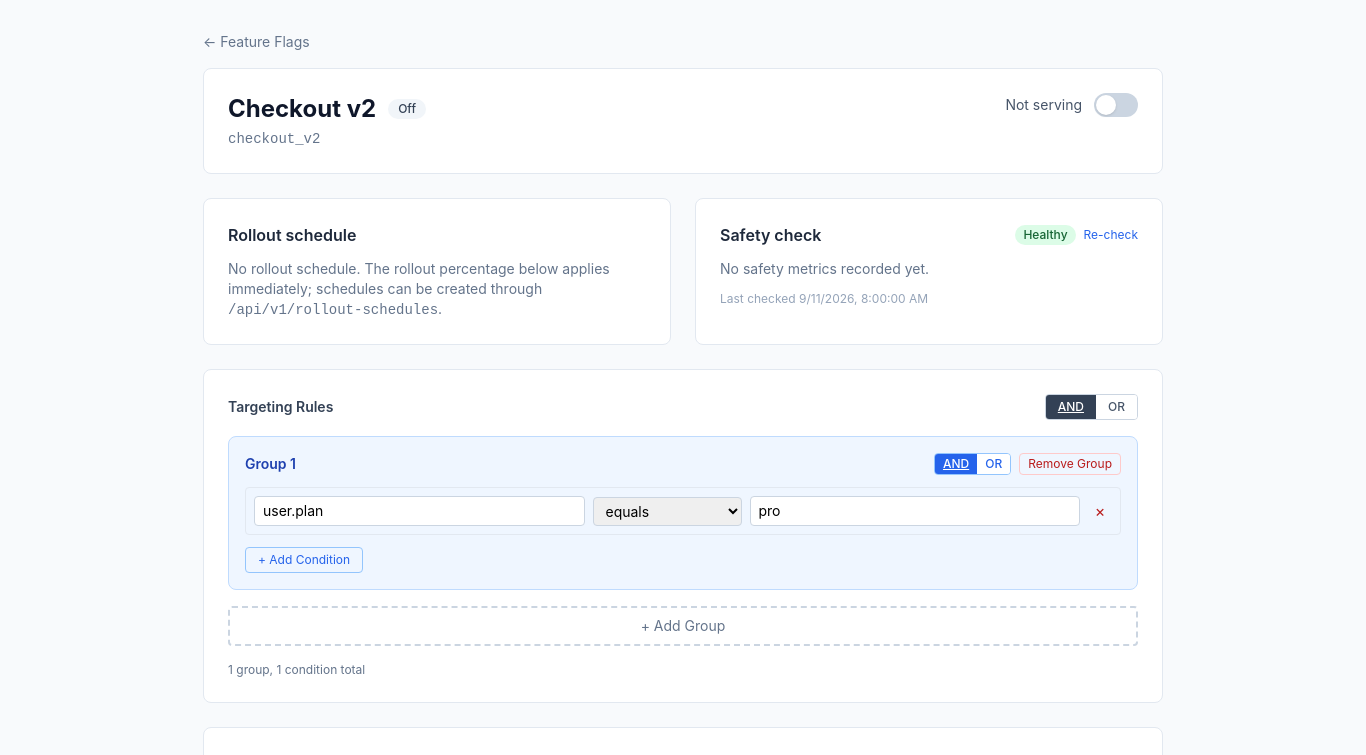
Test: a save the rules stop › shows a 422 on targeting_rules inside the section, focused, as a list
This screenshot has width=1366, height=755.
Replace the text in the field named "Group 1, condition 1 value" with "team" at x=915, y=511, box x1=750 y1=496 x2=1080 y2=526
(page scrolled)
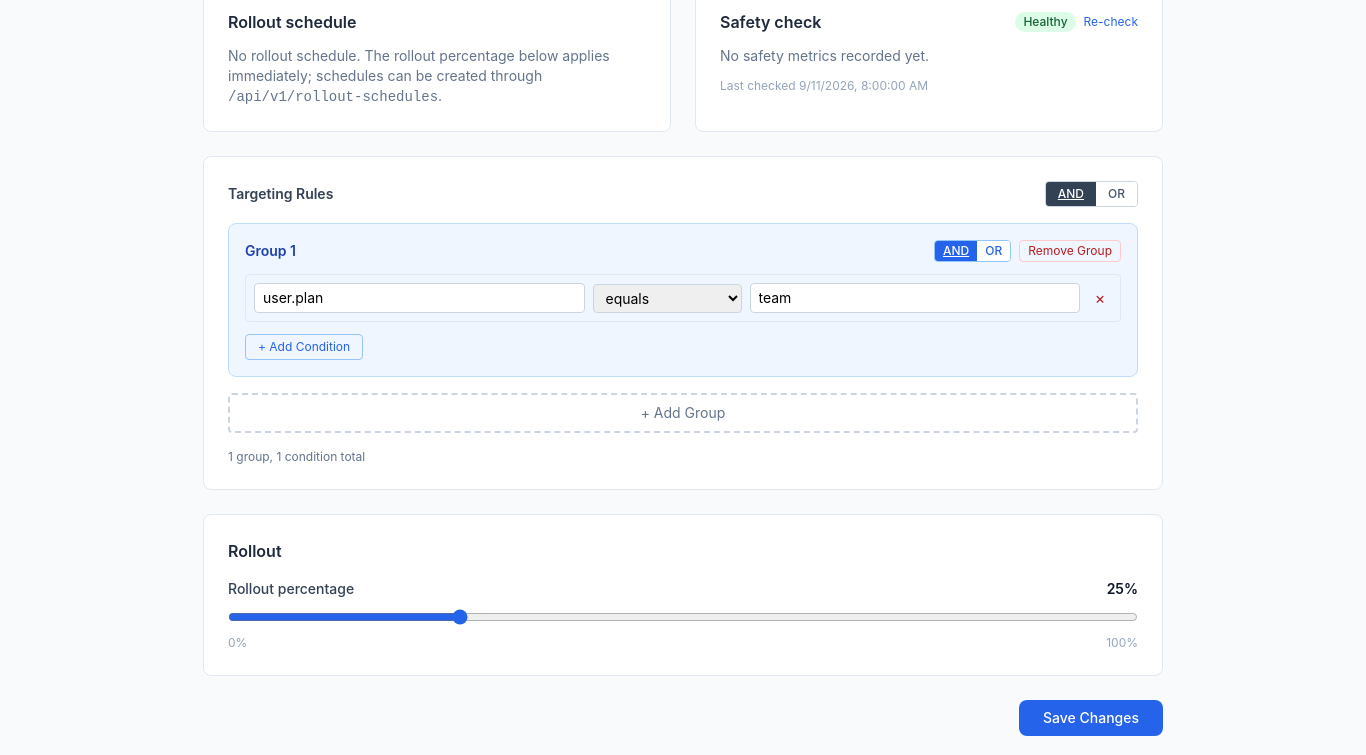
Click the button with test id "save-flag" at x=1091, y=718, box x1=1019 y1=700 x2=1163 y2=736
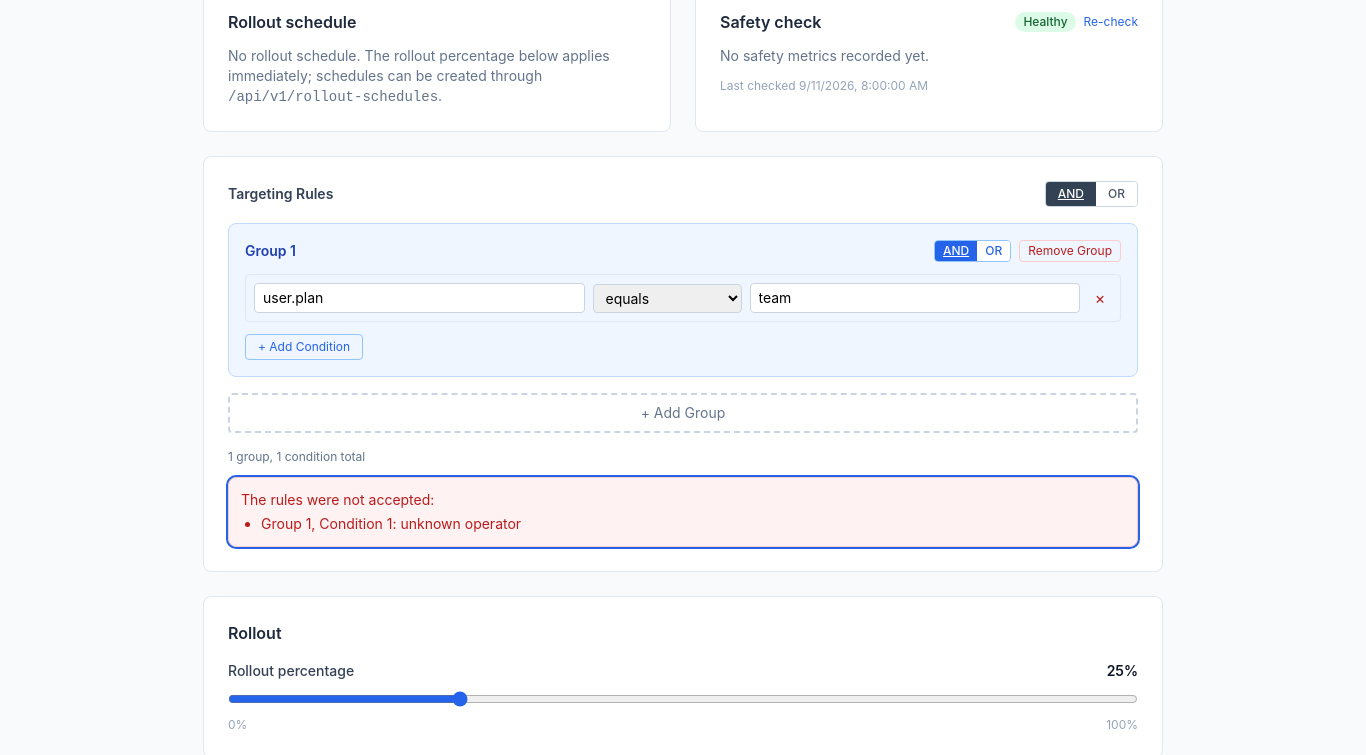
Expected: the message shows "The rules were not accepted:", x1=241 y1=491 x2=434 y2=508
Expected: the list items read "Group 1, Condition 1: unknown operator", in this order, x1=261 y1=515 x2=521 y2=532
